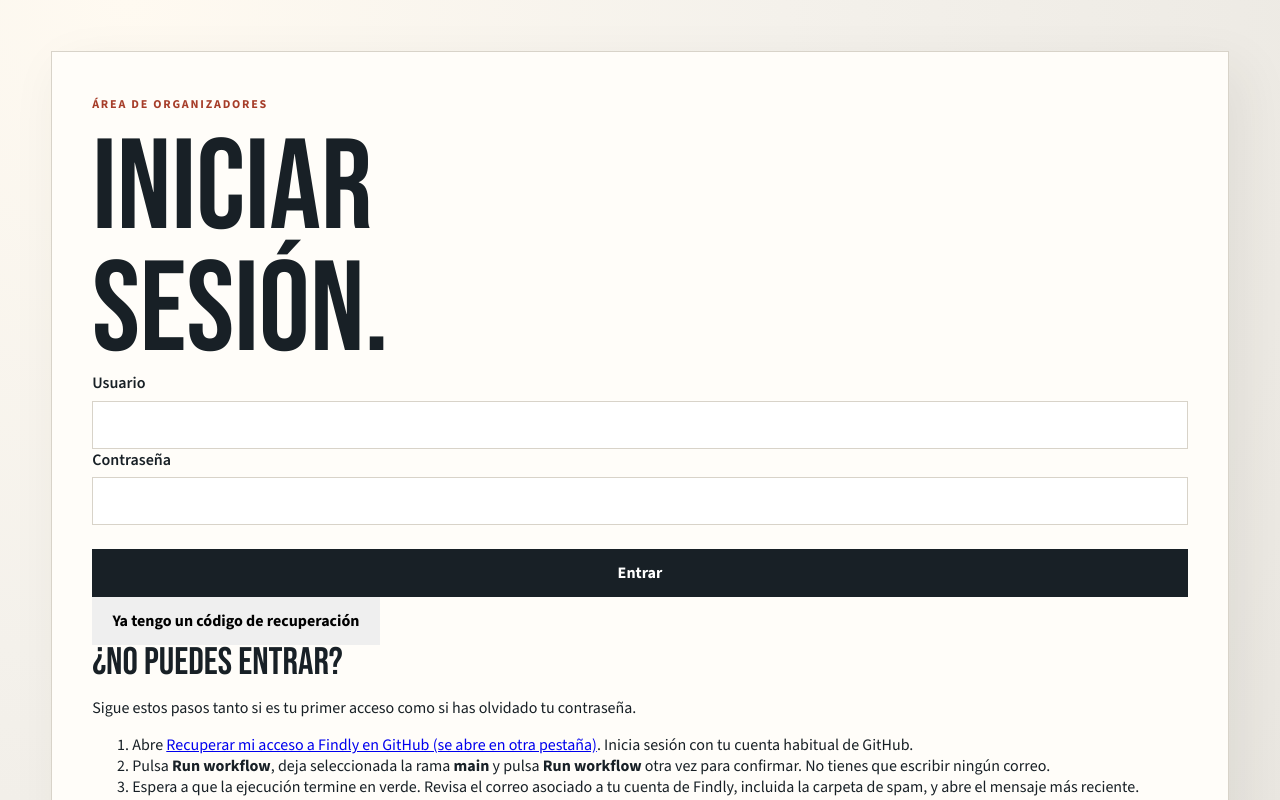
Test: frontend authentication › clears invitation fields when the user cancels
In the field labelled "Usuario": (640, 425) [92, 401, 1188, 449], type "invited"
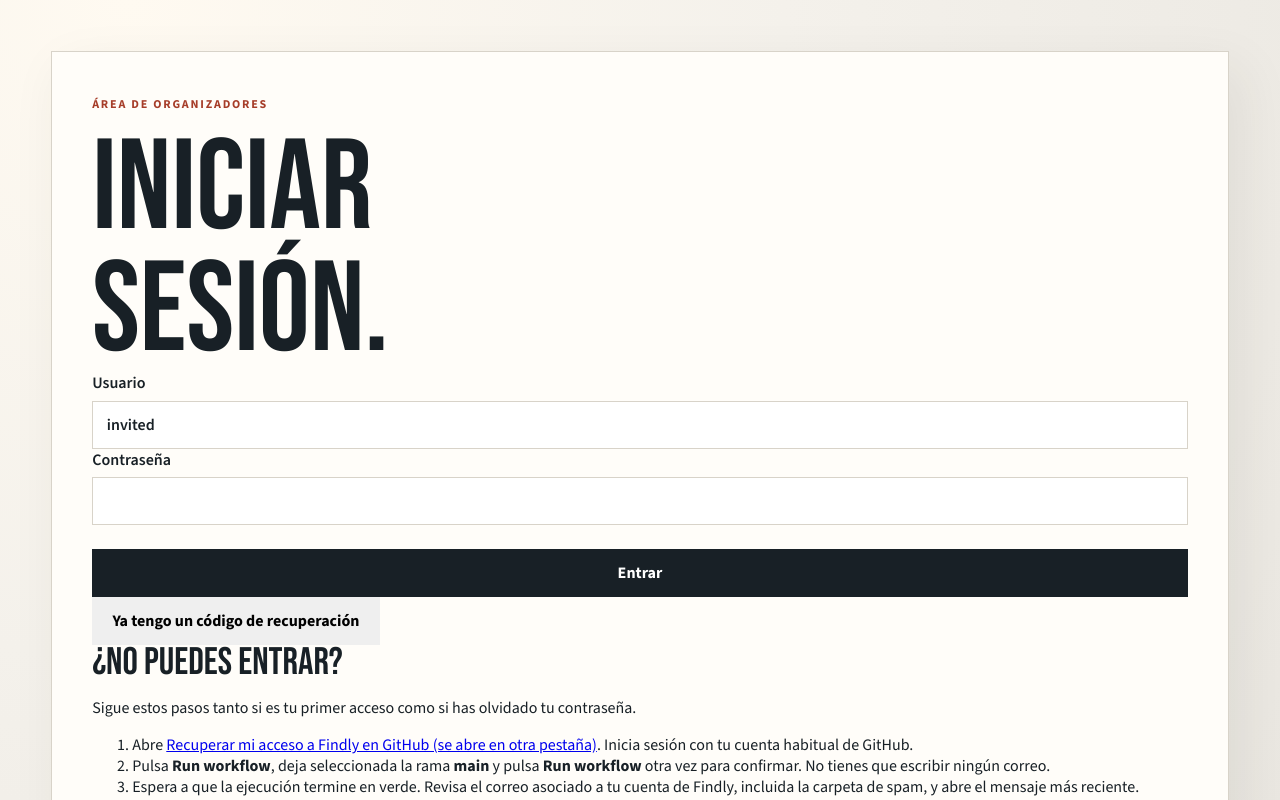
In the password field labelled "Contraseña": (640, 501) [92, 477, 1188, 525], type "temporary"
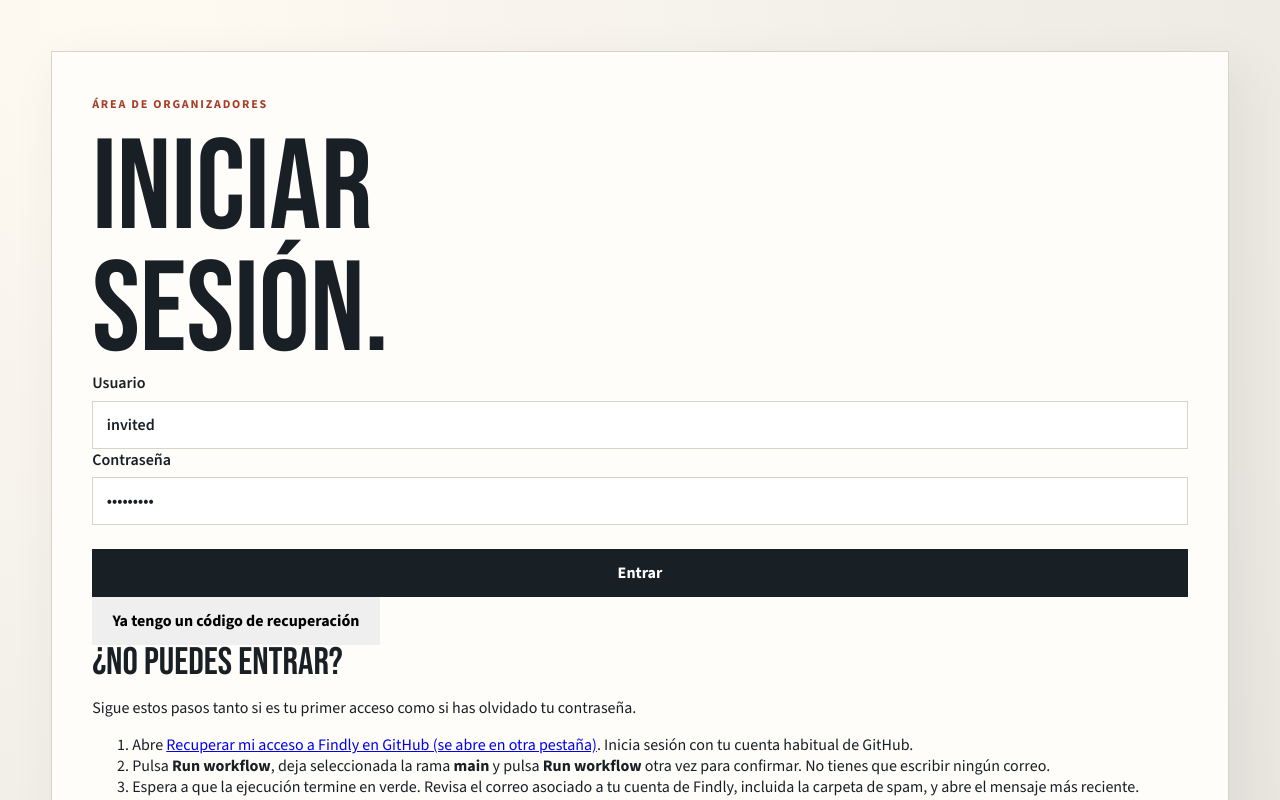
Click the button "Entrar": (640, 573) [92, 549, 1188, 597]
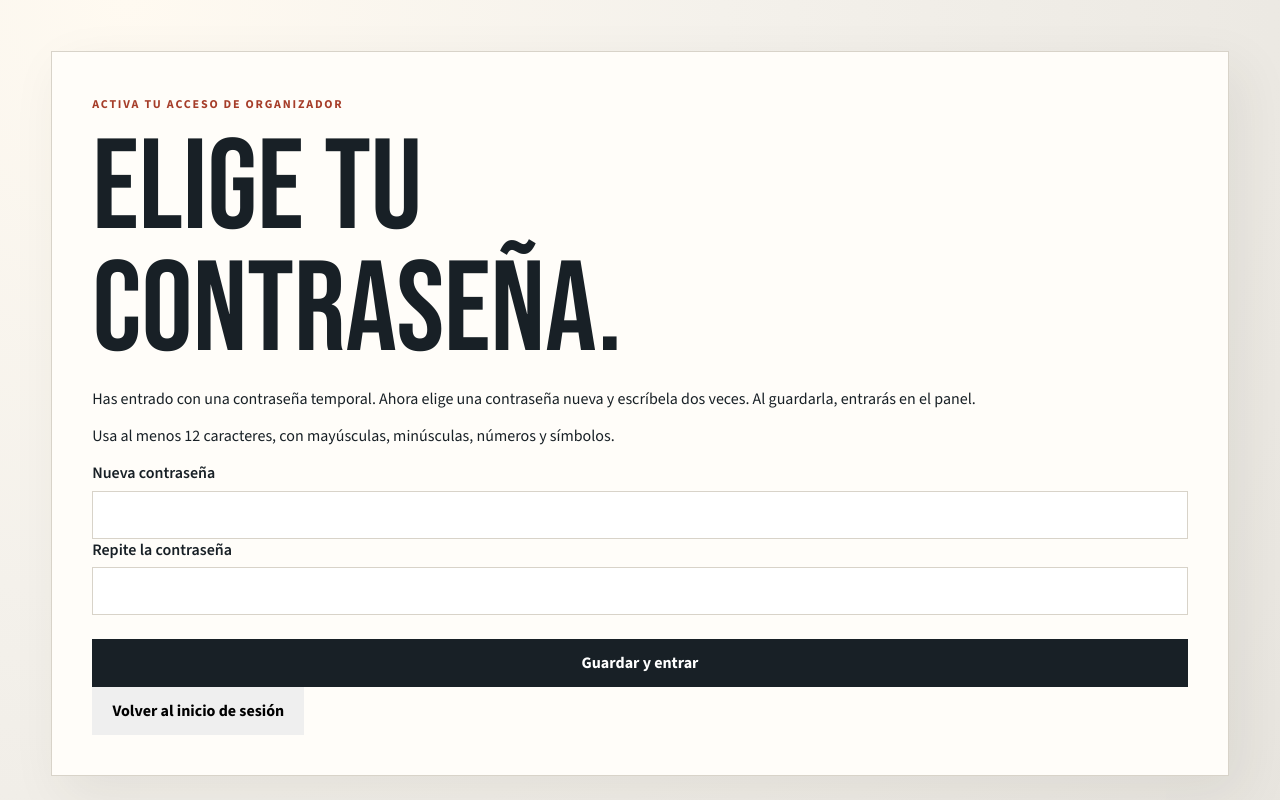
Now the heading "Elige tu contraseña." is shown, box [92, 129, 451, 372]
In the password field labelled "Nueva contraseña": (640, 515) [92, 491, 1188, 539], type "Permanent1!test"
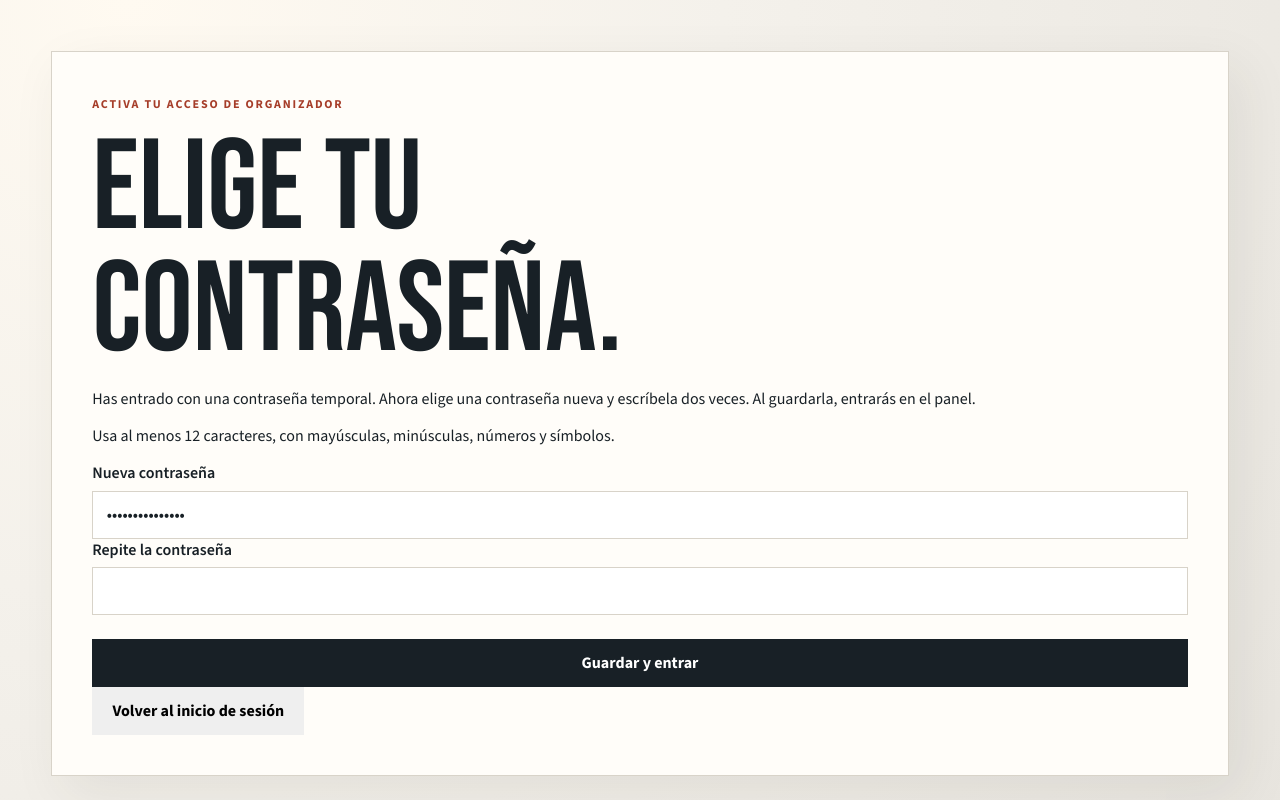
Click the button "Volver al inicio de sesión": (198, 711) [92, 687, 304, 735]
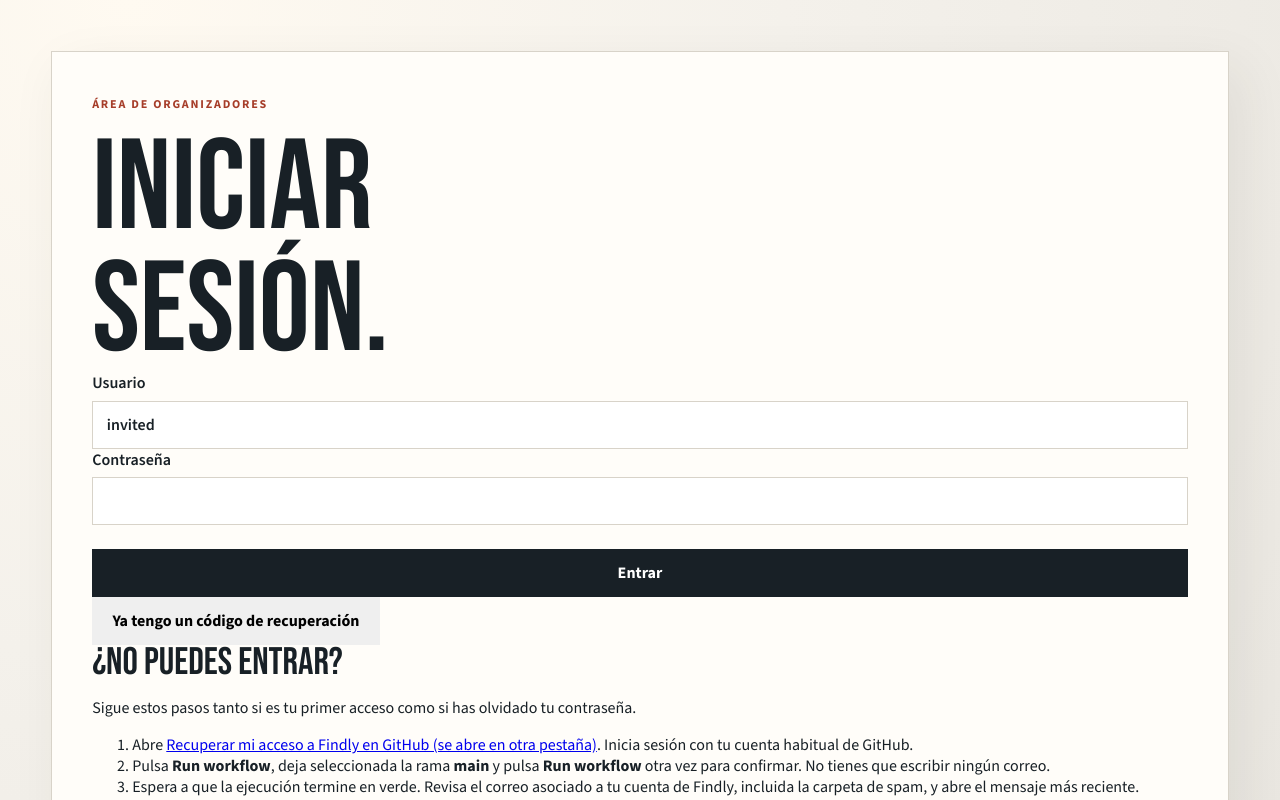
Expected: the field labelled "Nueva contraseña" is not shown
Now the password field labelled "Contraseña" is empty, box [92, 477, 1188, 525]
Now the heading "Iniciar sesión." is shown, box [92, 113, 389, 388]
